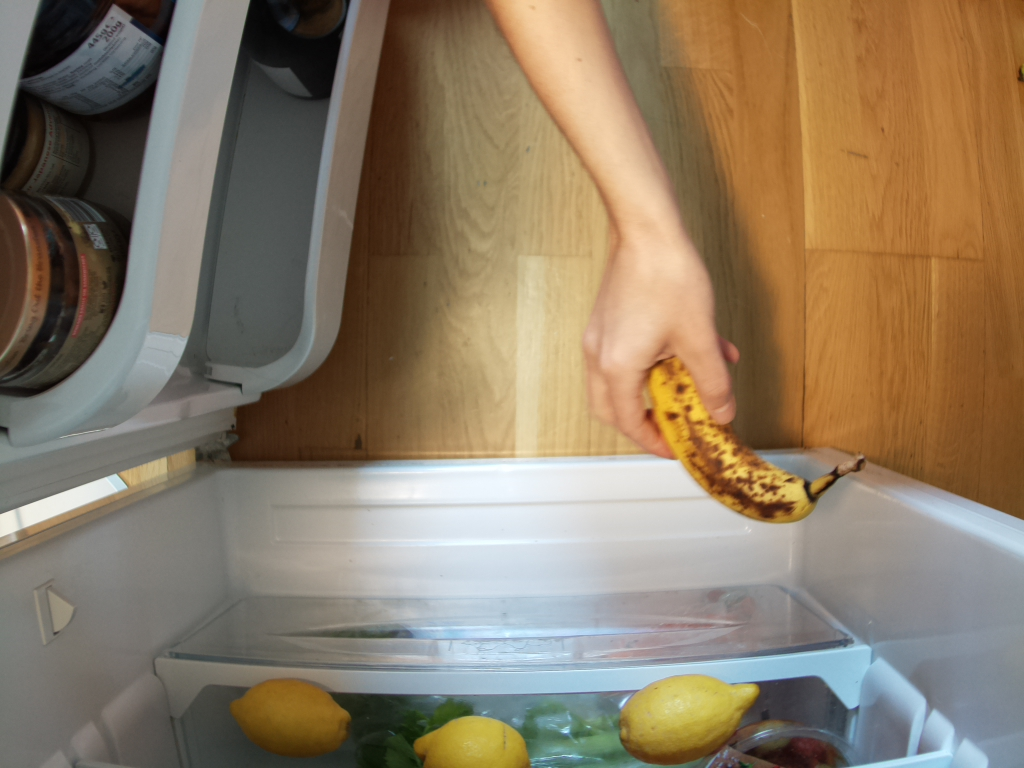banana-overripe: (647, 347, 870, 521)
